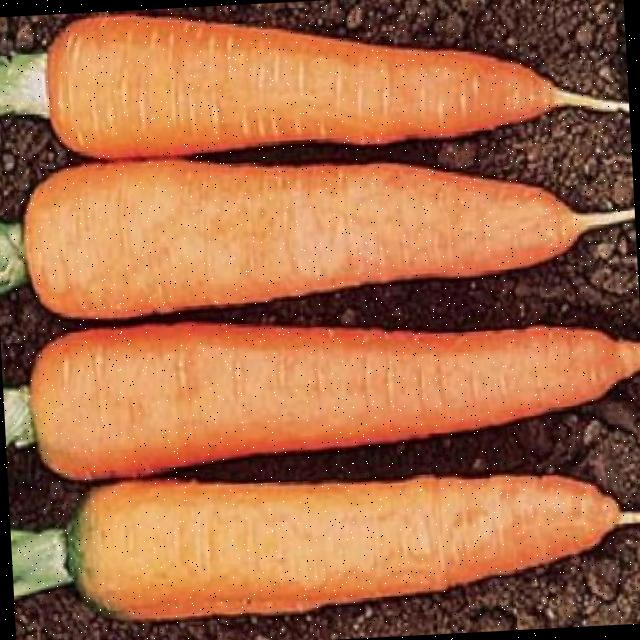carrot: (0, 159, 633, 317), (3, 323, 640, 478), (11, 474, 640, 618), (0, 14, 629, 157)
